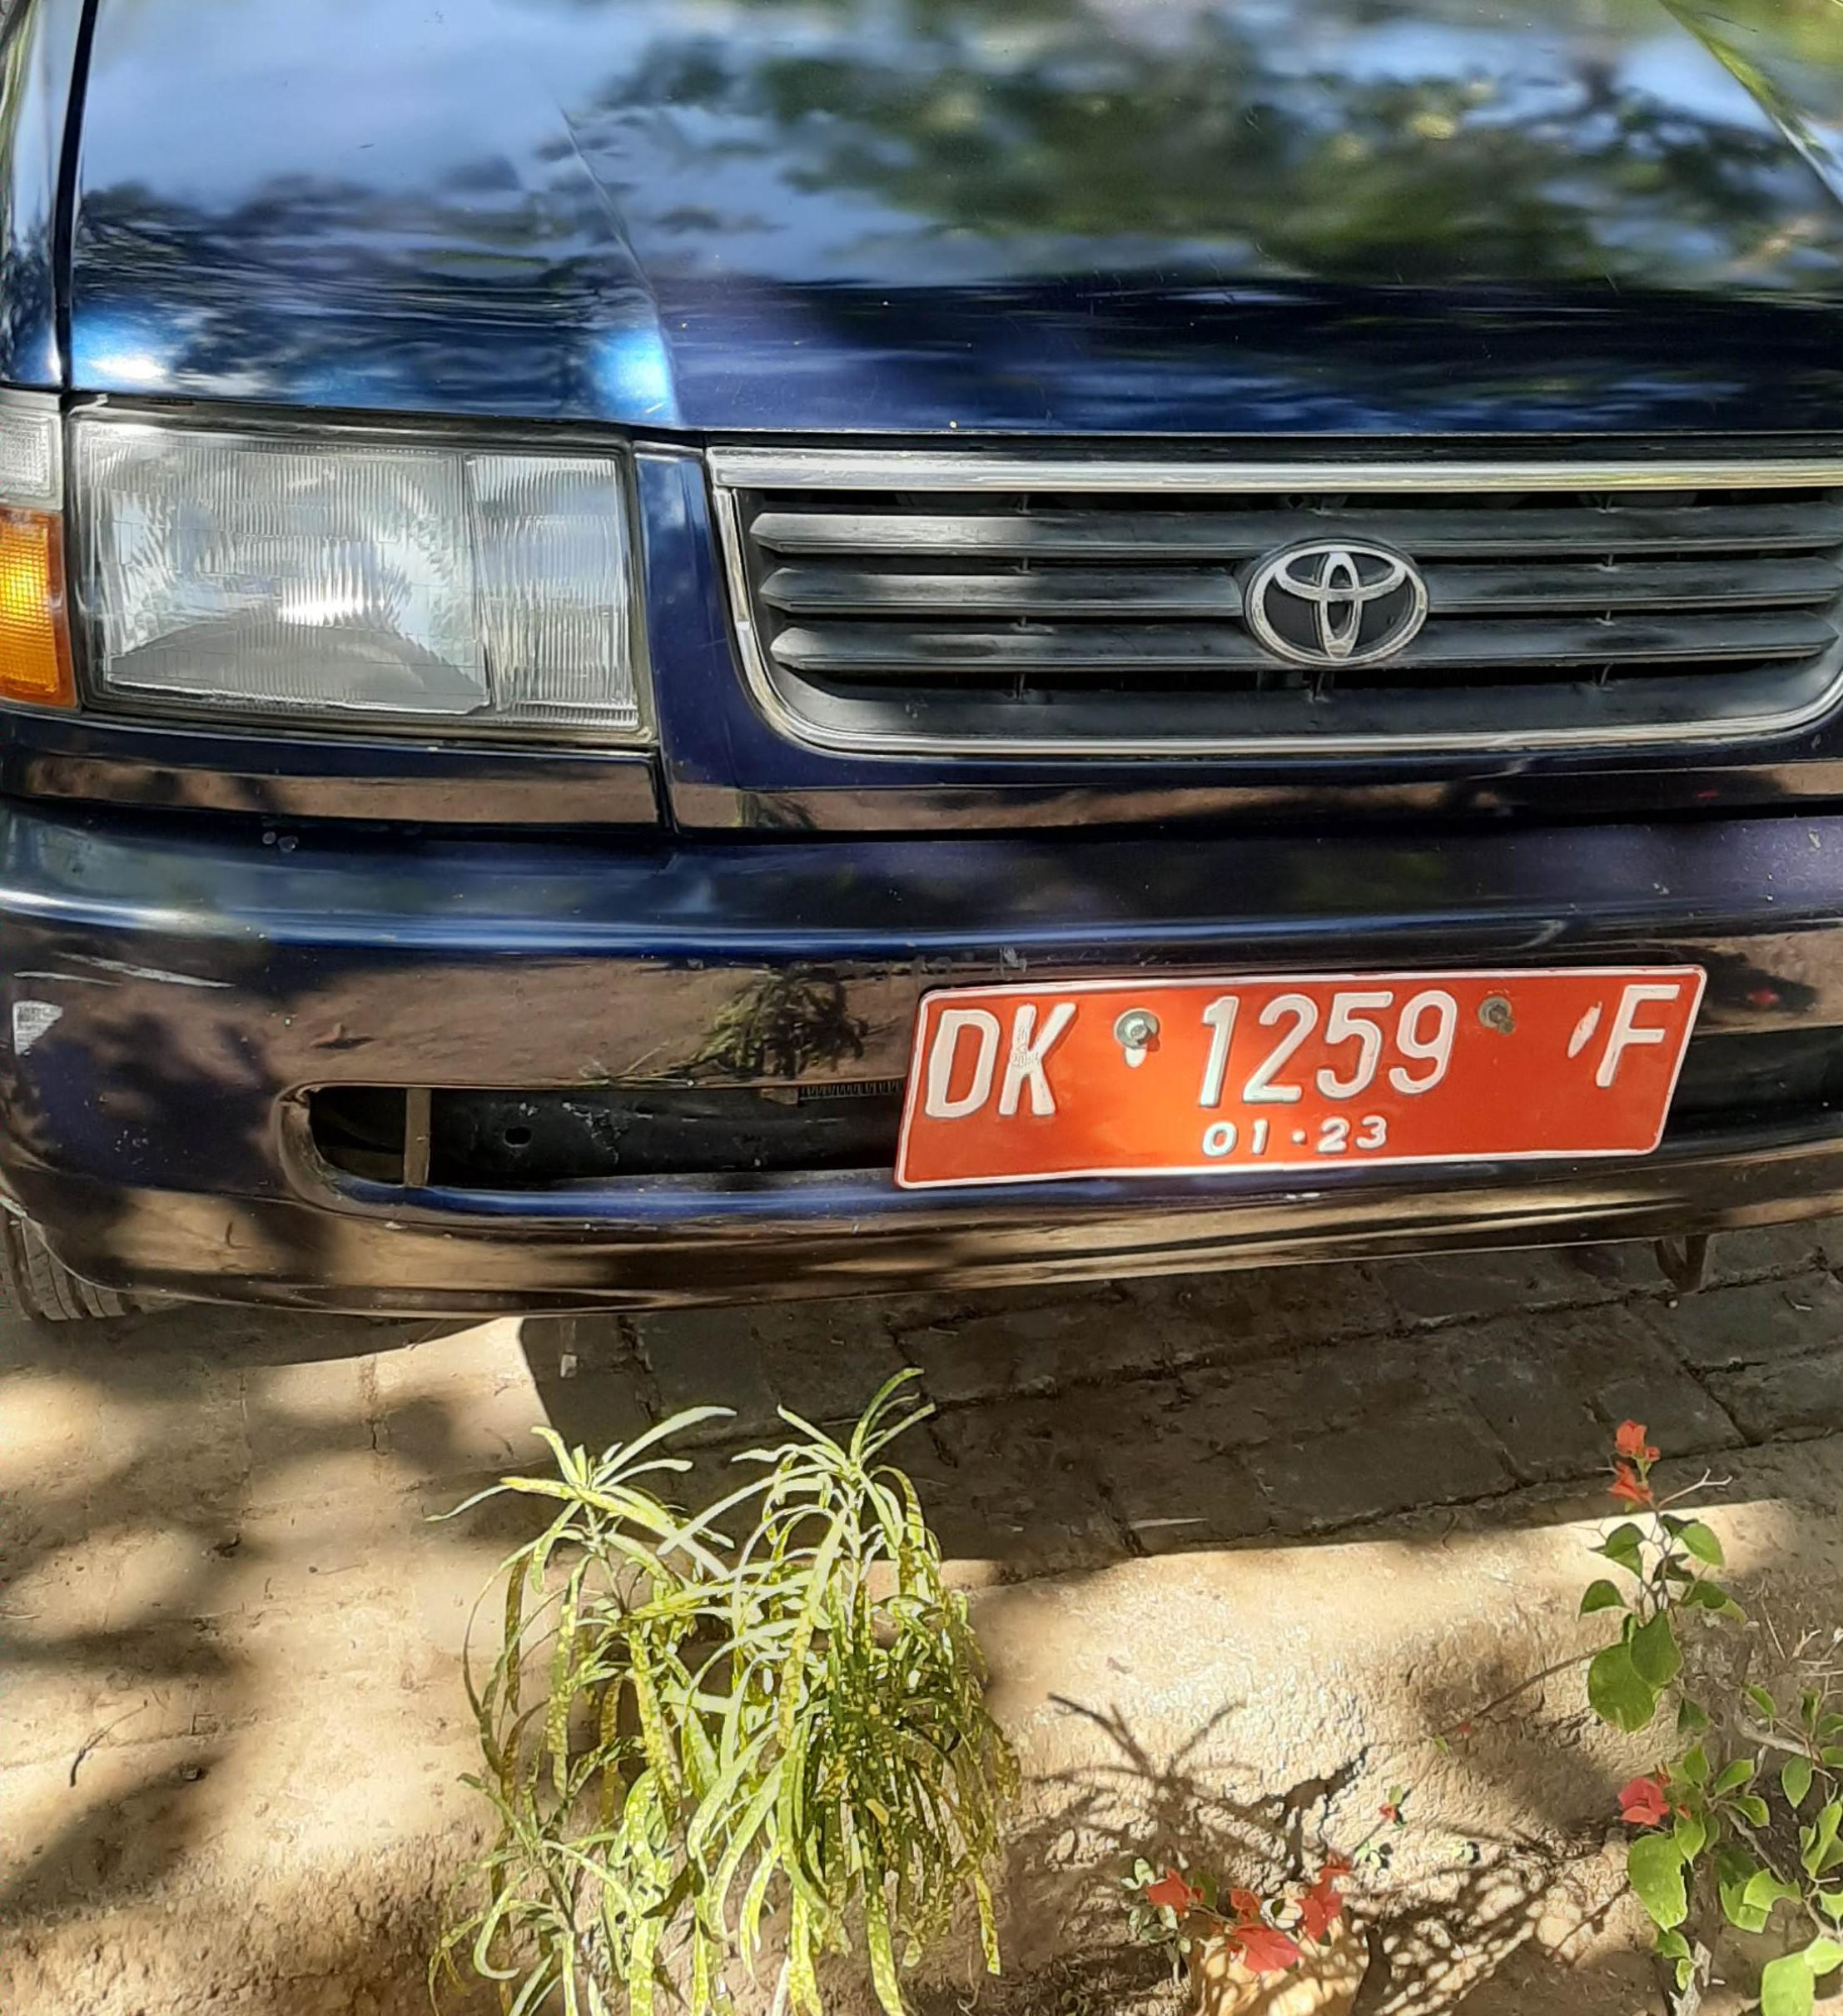plate: (896, 966, 1704, 1199)
